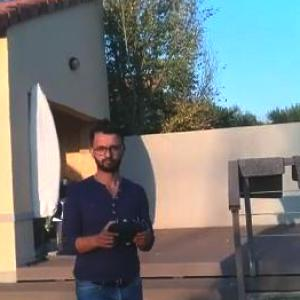follow: (57, 112, 159, 299)
